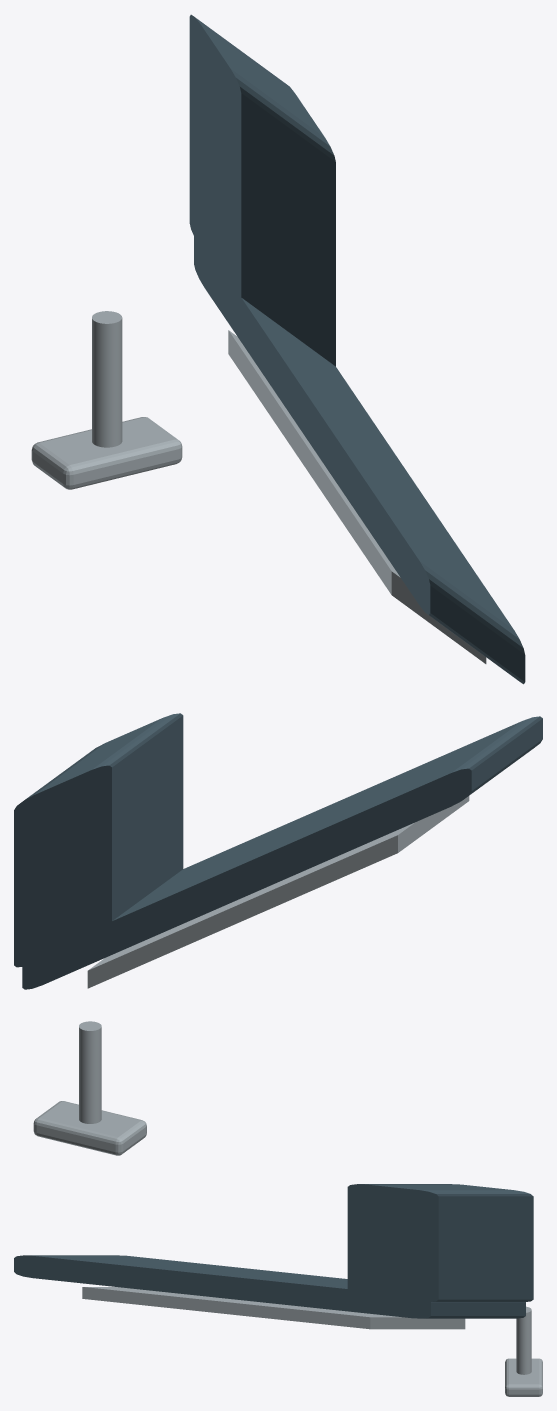
The model's file is cabin_bench_length_50cm_left.glb.
The picture shows the model from 3 angles, top to bottom: view 1: azimuth 30°, elevation 25°; view 2: azimuth 150°, elevation 25°; view 3: azimuth 270°, elevation 25°; orthographic projection. The views are drawn at different scales.
Visible parts, largest first — view 1: Bench upright back.016, Bench seat cushion.016, Bench foot.044, Bench support beam.016, Bench pedestal.044; view 2: Bench upright back.016, Bench seat cushion.016, Bench support beam.016, Bench foot.044, Bench pedestal.044; view 3: Bench upright back.016, Bench seat cushion.016, Bench support beam.016, Bench foot.044, Bench pedestal.044.
Boxes of the visible parts, box(x1,y1,x2,y2) form: Bench upright back.016: box(189, 14, 335, 366); Bench seat cushion.016: box(194, 234, 525, 684); Bench foot.044: box(31, 417, 182, 489); Bench support beam.016: box(228, 330, 486, 663); Bench pedestal.044: box(92, 311, 122, 447); Bench upright back.016: box(14, 713, 183, 967); Bench seat cushion.016: box(22, 716, 542, 989); Bench support beam.016: box(87, 796, 469, 988); Bench foot.044: box(33, 1101, 146, 1155); Bench pedestal.044: box(79, 1021, 101, 1123); Bench upright back.016: box(347, 1184, 533, 1301); Bench seat cushion.016: box(14, 1255, 525, 1318); Bench support beam.016: box(82, 1287, 465, 1329); Bench foot.044: box(505, 1358, 542, 1396); Bench pedestal.044: box(516, 1306, 531, 1374).
Bounding box in the file's own units: 0.56 × 1.25 × 2.79.
